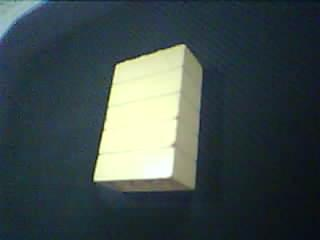lego: (91, 43, 203, 192)
